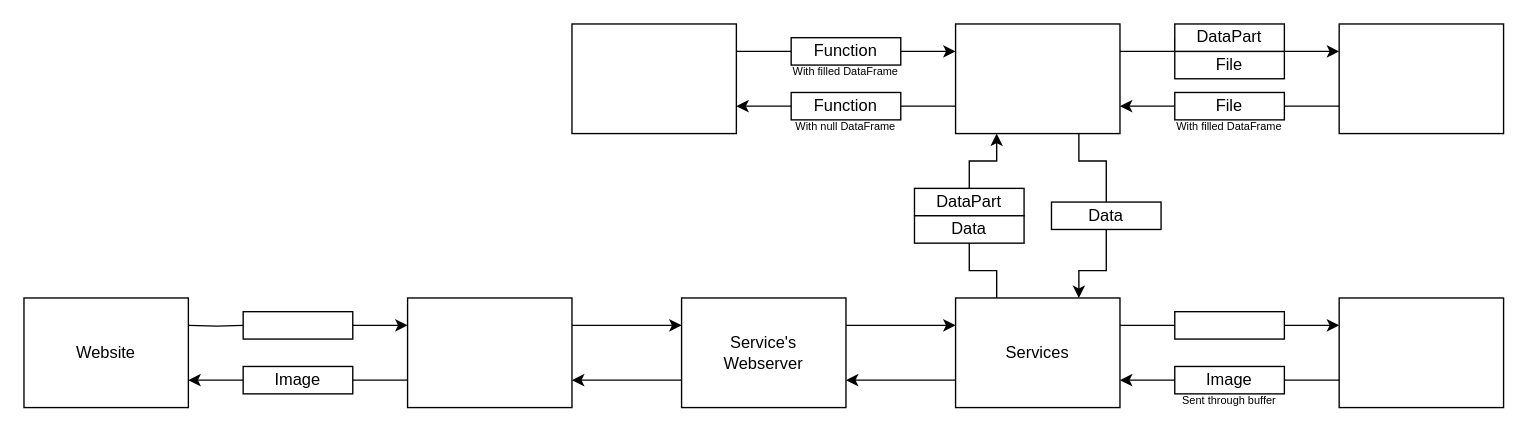
This 1528x432 diagram has some shape labels left out. The box of each missing label's shape, as (x1, y1, x2, y2) in pixels:
File Validator: (1338, 23, 1504, 134)
Function Validator (latex2lambda): (571, 23, 736, 134)
MultiPart: (242, 310, 353, 339)
PayloadPart: (1173, 310, 1284, 339)
Plotter: (1338, 297, 1504, 408)
Validator: (954, 23, 1120, 134)
Webserver: (406, 297, 572, 408)
